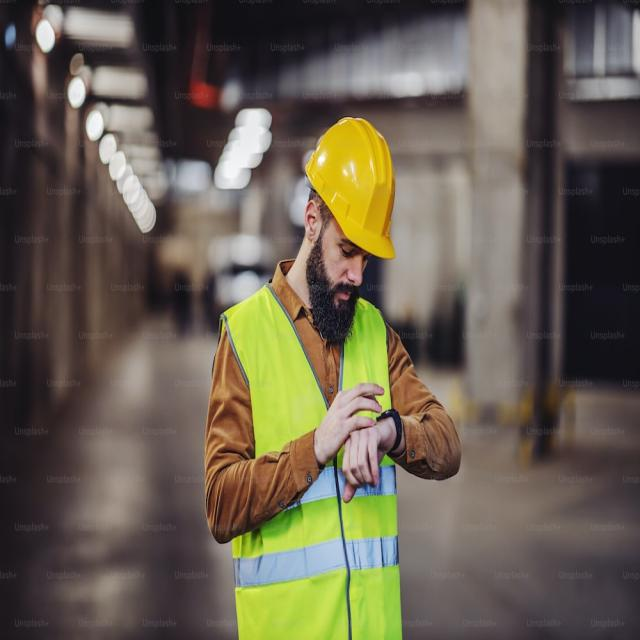helmet: (289, 114, 416, 253)
no-goggles: (315, 210, 373, 277)
vest: (210, 276, 416, 637)
